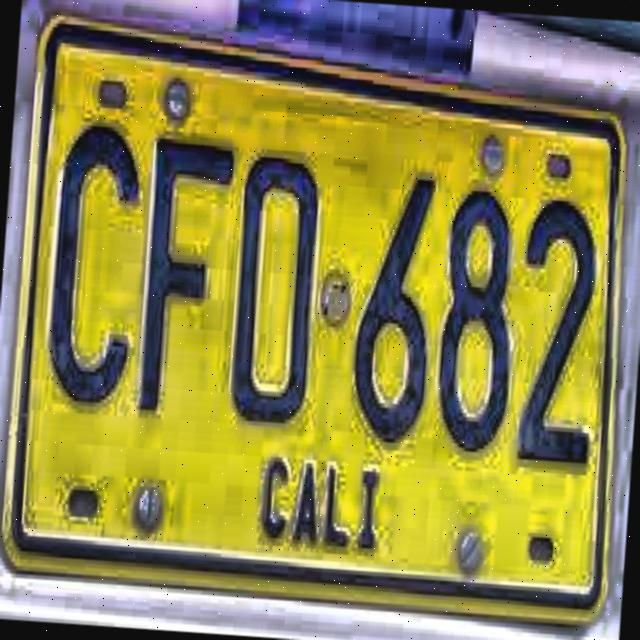2: (509, 187, 606, 466)
6: (346, 171, 447, 452)
8: (426, 176, 528, 458)
C: (34, 108, 151, 416)
F: (129, 128, 243, 422)
O: (220, 140, 330, 440)
